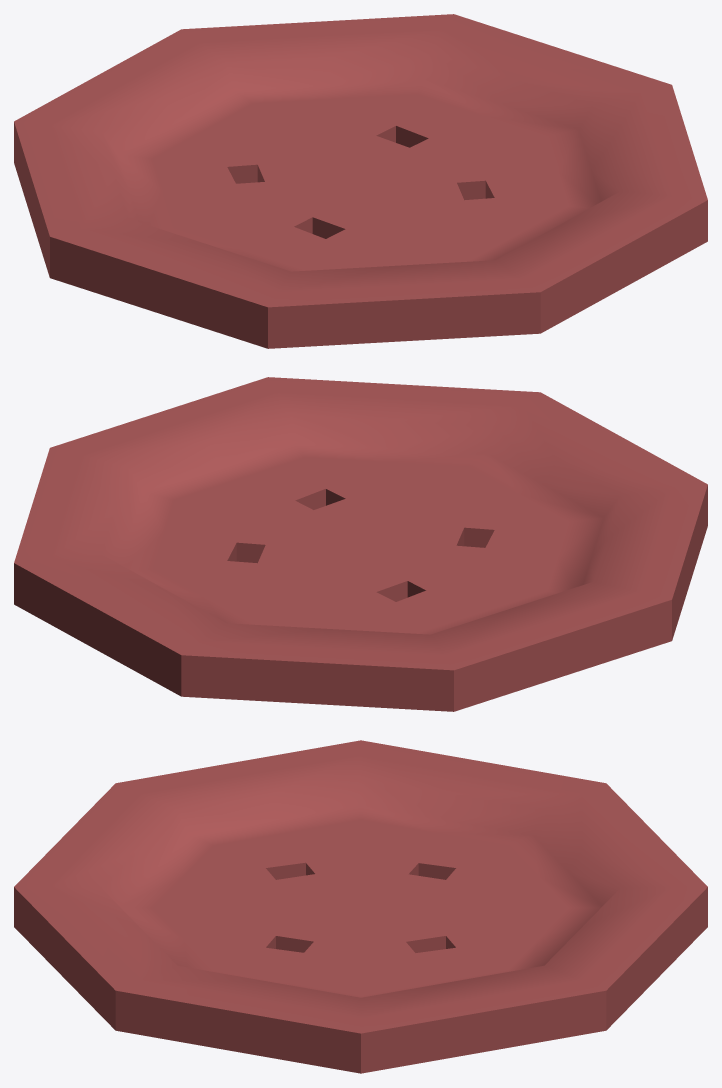
The model's file is Button.fbx.
3 views of the same model, one above another, from view 1: azimuth 30°, elevation 25°; view 2: azimuth 150°, elevation 25°; view 3: azimuth 270°, elevation 25° (orthographic). The views are drawn at different scales.
Parts seen in each view (by area): view 1: pCylinder1; view 2: pCylinder1; view 3: pCylinder1.
Boxes of the visible parts, <box> form: pCylinder1: <box>14,14,707,348</box>; pCylinder1: <box>14,377,707,711</box>; pCylinder1: <box>14,740,707,1073</box>.
Bounding box in the file's own units: 0.0122 × 0.000779 × 0.0122.
